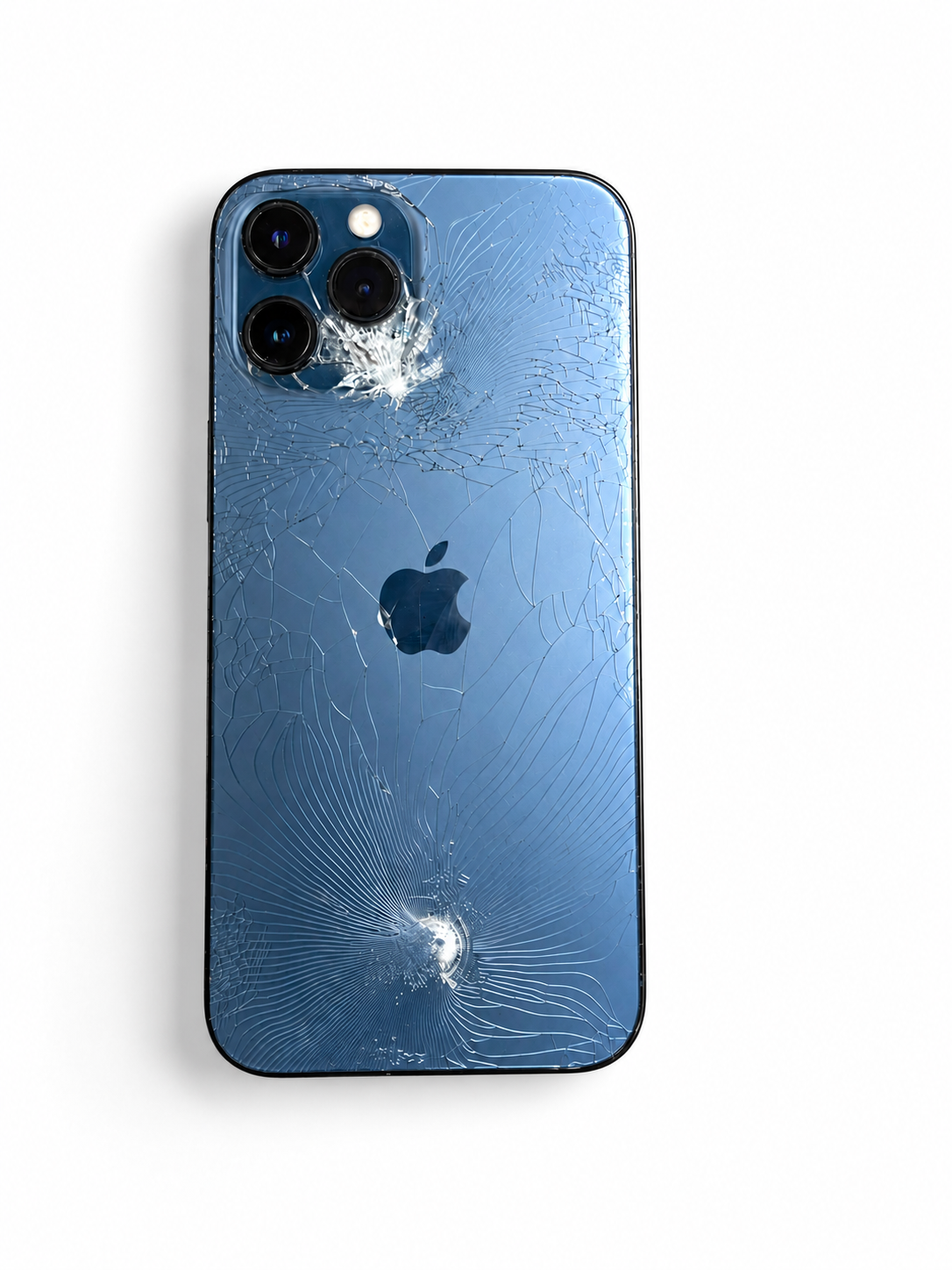iphone_12_pro_max_Crack: (169, 119, 698, 1118)
